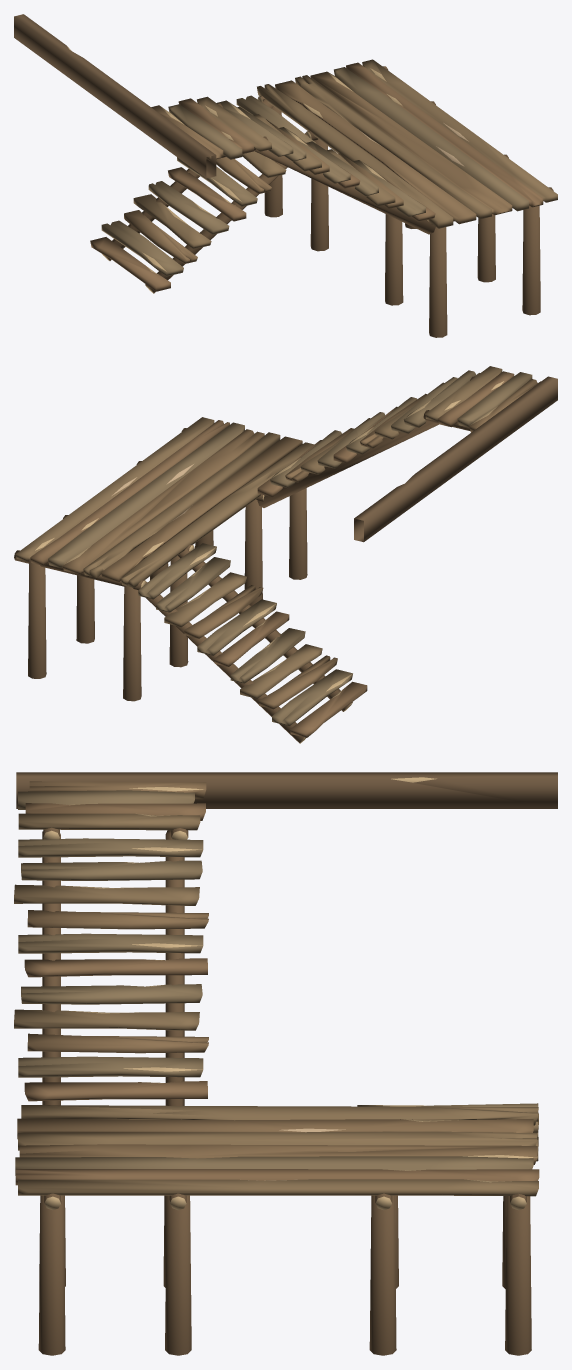
The model's file is rpgpp_ag_stairs_interior_01d_4m.fbx.
3 views of the same model, one above another, from view 1: azimuth 30°, elevation 25°; view 2: azimuth 150°, elevation 25°; view 3: azimuth 270°, elevation 25° (orthographic). The views are drawn at different scales.
Visible parts, largest first — view 1: rpgpp_ag_stairs_interior_01d_4m; view 2: rpgpp_ag_stairs_interior_01d_4m; view 3: rpgpp_ag_stairs_interior_01d_4m.
Boxes of the visible parts, x1,y1,x2,y2 form: rpgpp_ag_stairs_interior_01d_4m: (14,14,557,337); rpgpp_ag_stairs_interior_01d_4m: (14,366,557,743); rpgpp_ag_stairs_interior_01d_4m: (14,772,557,1355).
Bounding box in the file's own units: 6.22 × 4.18 × 5.81.
